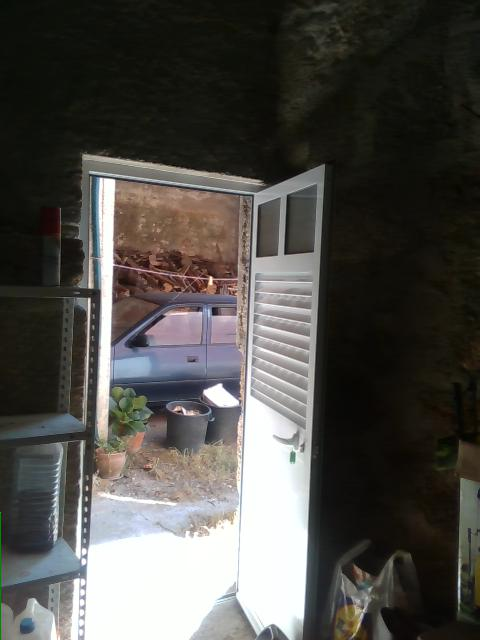door: (236, 160, 333, 639)
